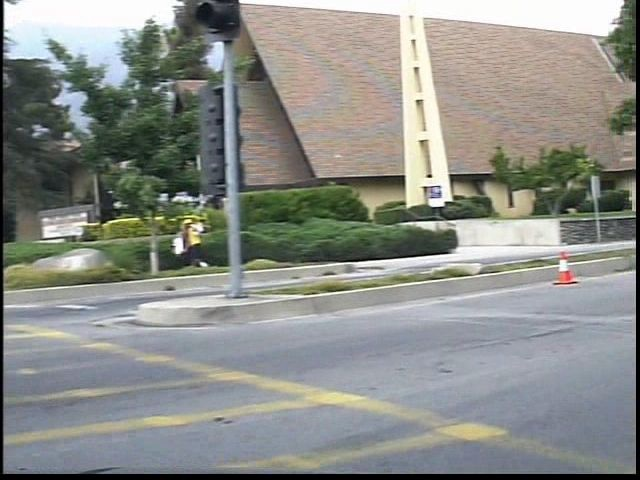person: (191, 213, 228, 273)
